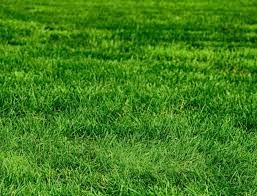grass: (3, 3, 252, 190)
